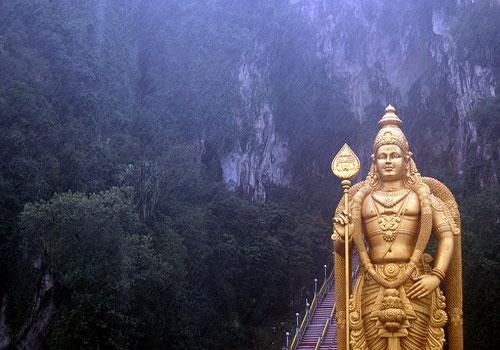Buddhist Temple: (323, 100, 462, 345)
